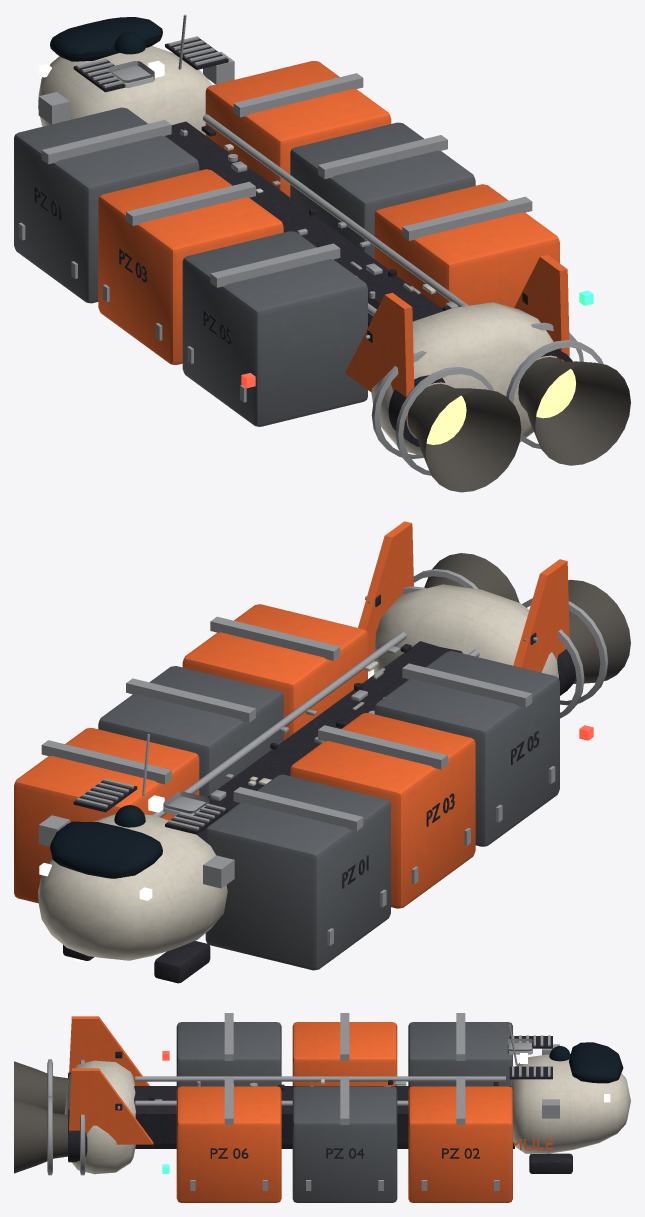
The model's file is game-mule.glb.
The picture shows the model from 3 angles, top to bottom: view 1: azimuth 30°, elevation 25°; view 2: azimuth 150°, elevation 25°; view 3: azimuth 270°, elevation 25°; orthographic projection. The views are drawn at different scales.
Parts seen in each view (by area): view 1: mule; view 2: mule; view 3: mule.
Part boxes in pixels (bbox=[...]): mule: bbox=[14, 14, 630, 492]; mule: bbox=[14, 521, 630, 984]; mule: bbox=[14, 1013, 630, 1202].
Bounding box in the file's own units: 15.2 × 8.83 × 34.12.
11 materials, 2 textured.
